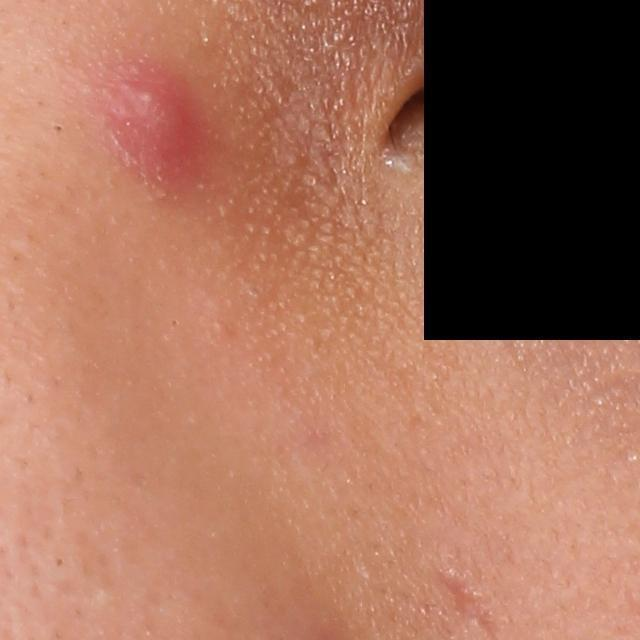papule: (106, 45, 204, 184)
